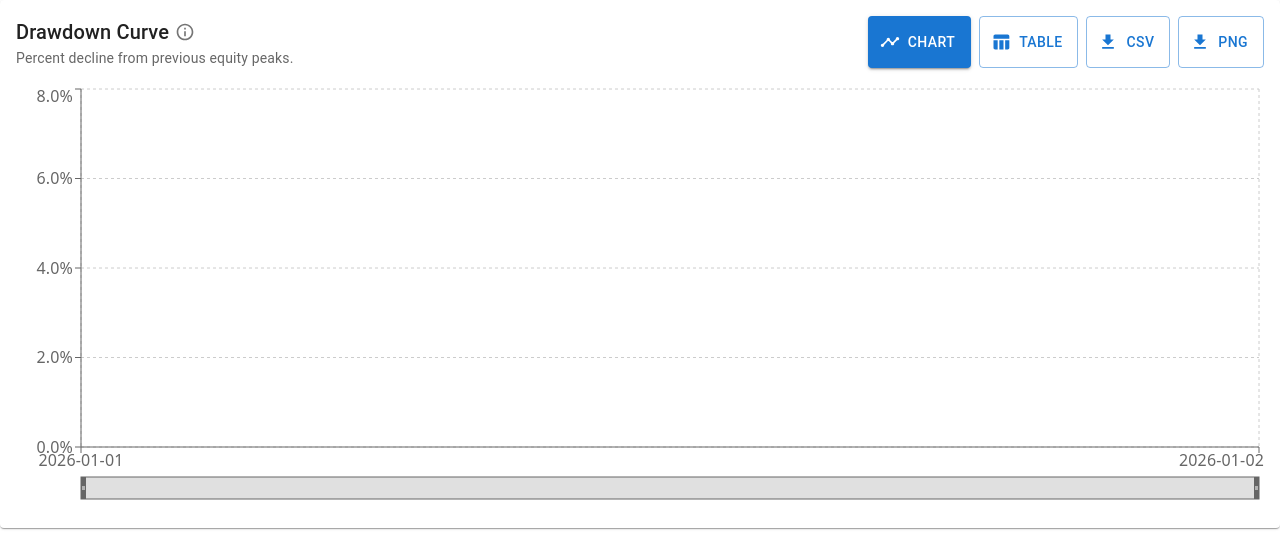
Test: chart components › renders drawdown chart table mode
expect the heading "Drawdown Curve" is shown: met, box x1=16 y1=16 x2=169 y2=48
Step 1. Click the button "Table" → (1029, 42), box x1=979 y1=16 x2=1078 y2=68
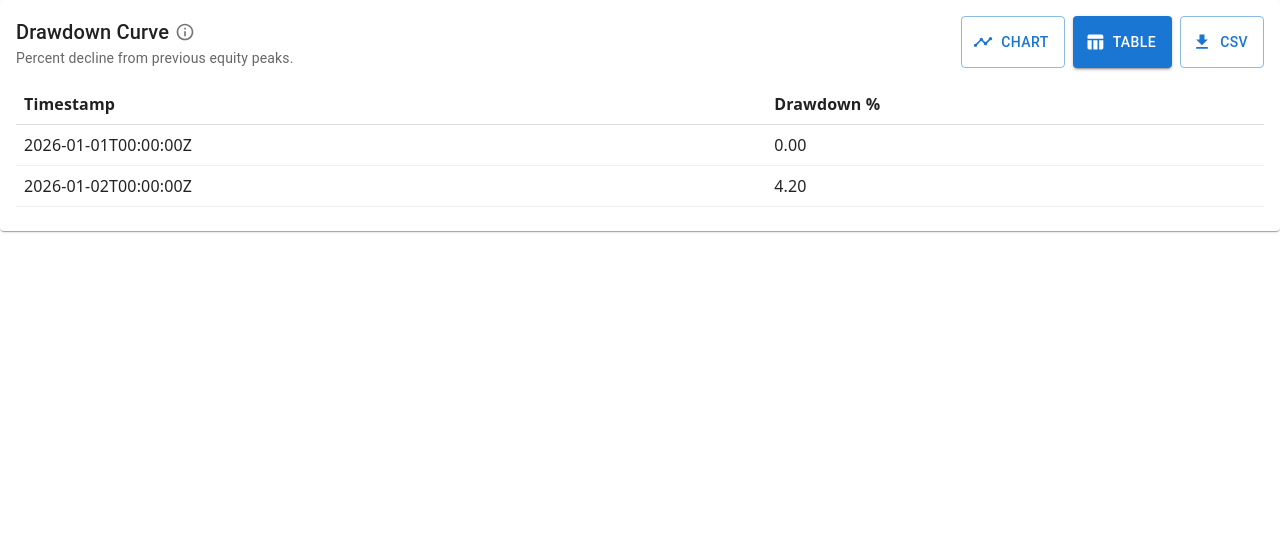
expect the column heading "Drawdown %" is shown: met, box x1=766 y1=84 x2=1264 y2=124
